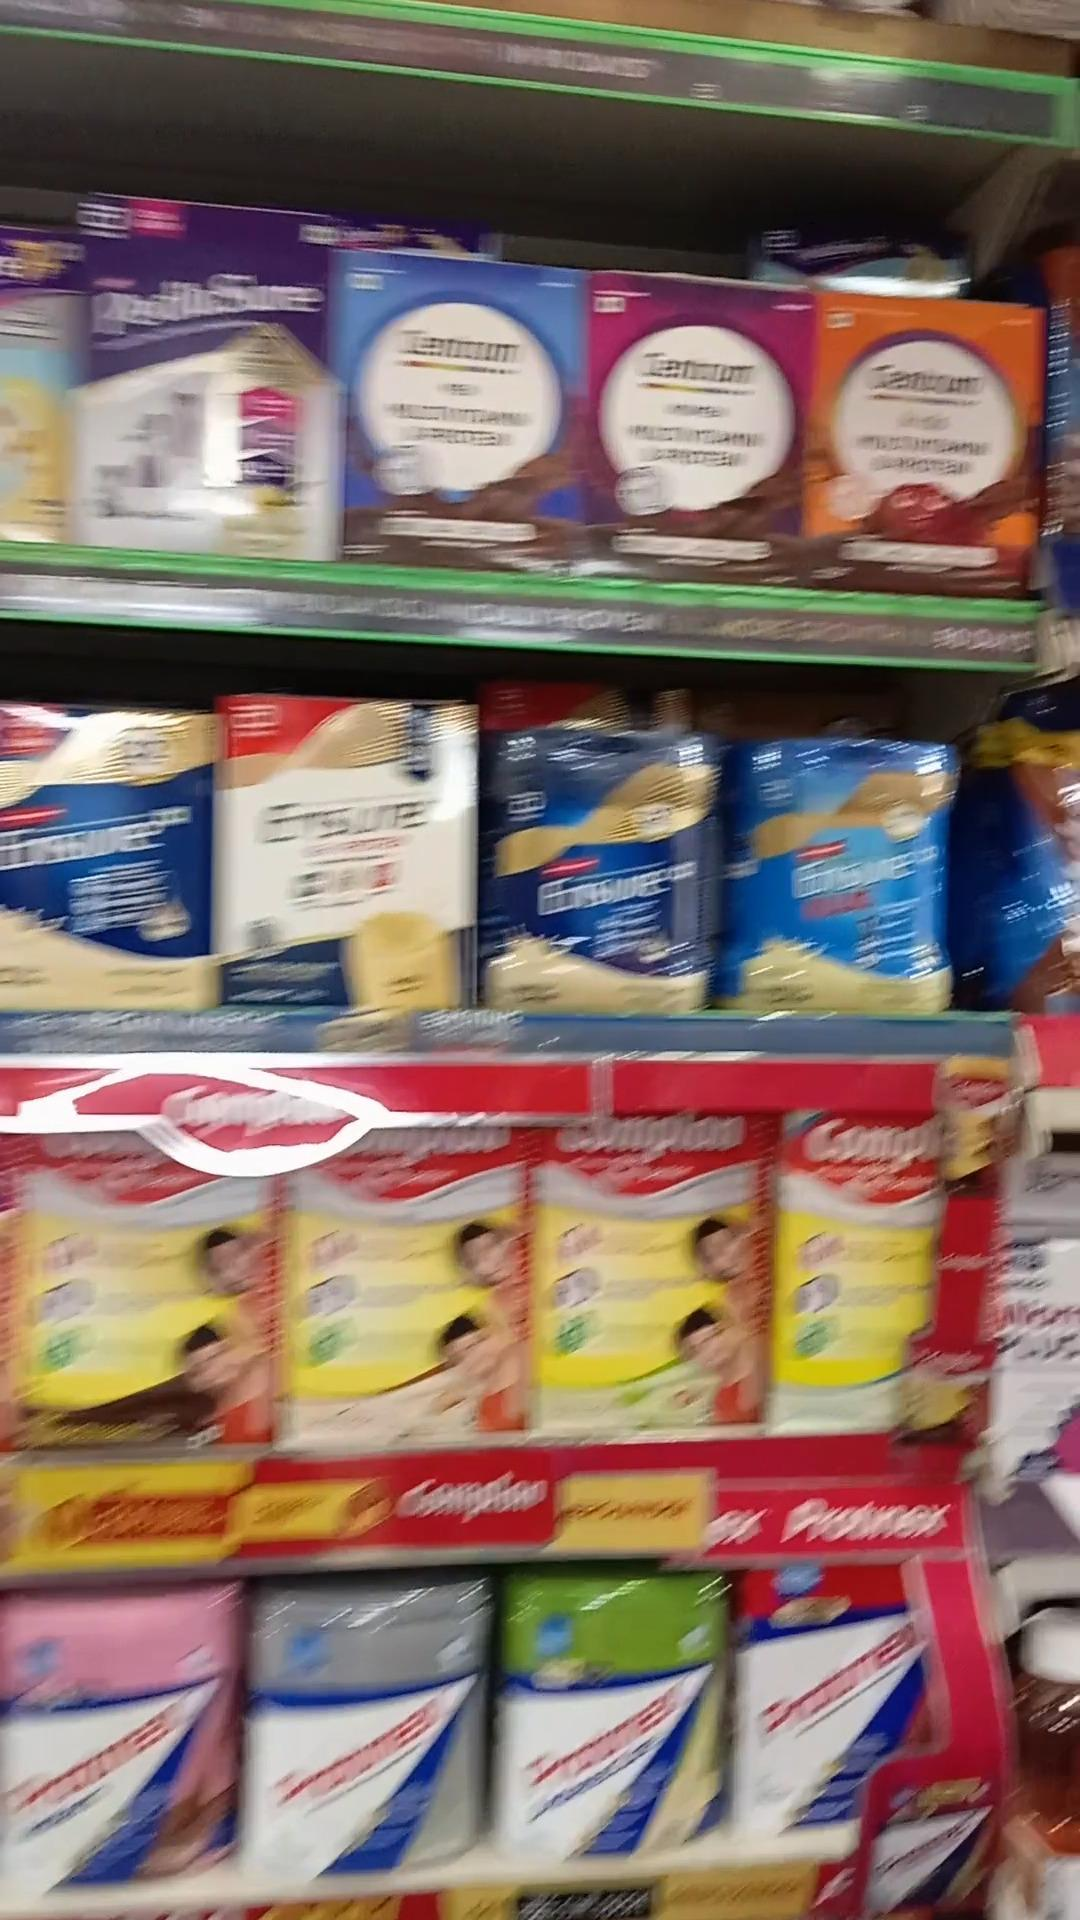COMPLAN_CHOCOLATE_500_GMS_PACK: (1, 1159, 269, 1447)
COMPLAN_CREAMY_CLASSIC_500_G_PACK: (777, 1114, 907, 1435)
COMPLAN_KESAR_BADAM_500_GMS_PACK: (285, 1156, 516, 1443)
COMPLAN_PISTA_BADAM_500_GMS_PACK: (527, 1129, 761, 1422)
ENSURE_VANILLA_400_G_PACK: (218, 694, 465, 1009)
PEDIASURE_VANILLA_500_G_PACK: (71, 199, 335, 558)
PROTINEX_ORIGINAL_400_G_JAR: (243, 1585, 484, 1865)
